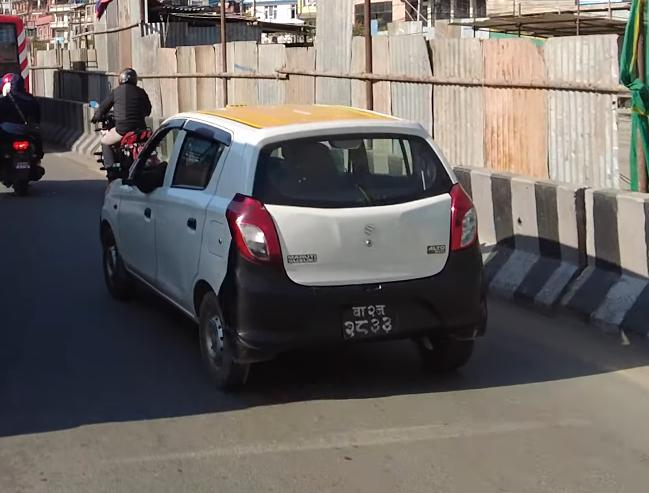bike: (89, 101, 159, 184)
scooter: (0, 124, 51, 201)
taxi: (91, 96, 495, 397)
